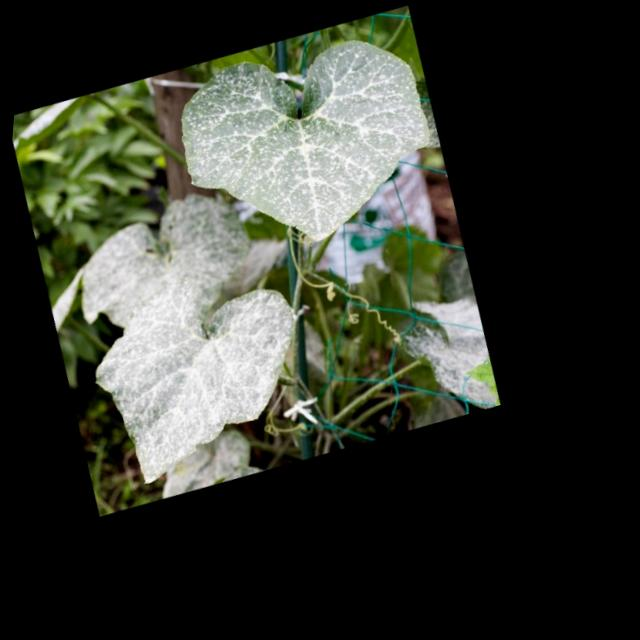Powdery_mildew_on_lettuce: (63, 201, 322, 503), (163, 10, 451, 259)
